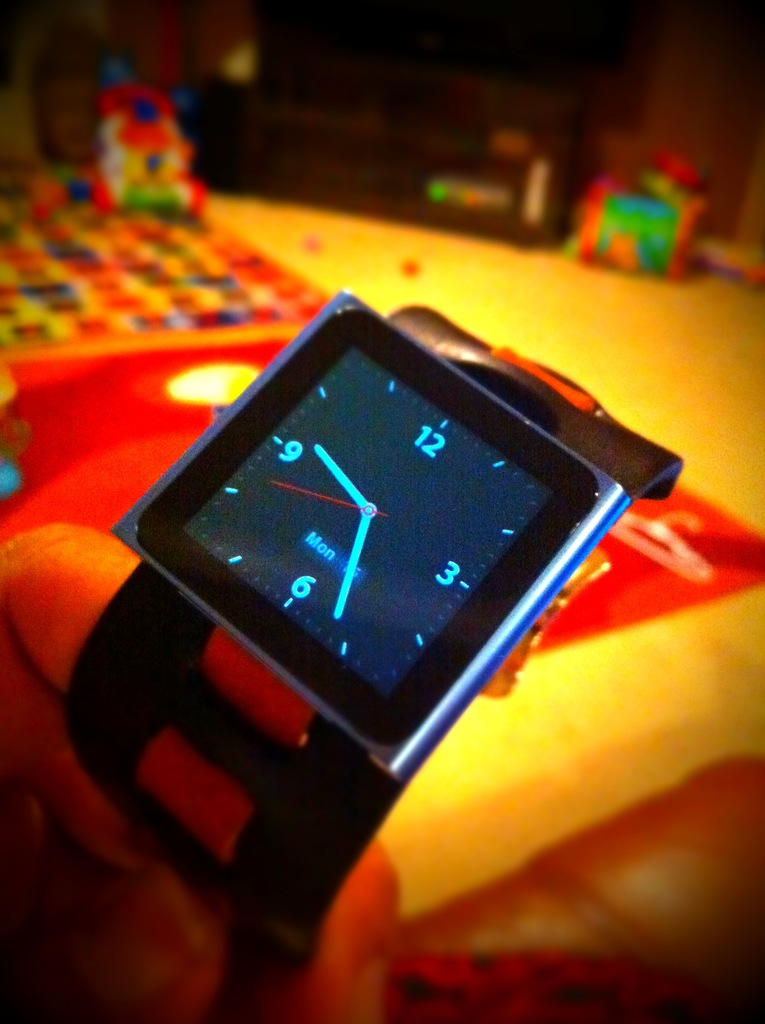watch: (59, 287, 684, 988)
